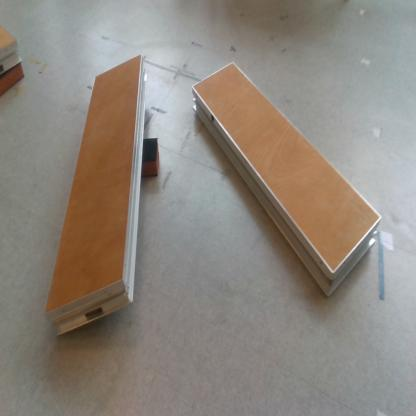Stairs: (192, 60, 385, 302), (45, 51, 150, 340), (1, 23, 24, 77)
